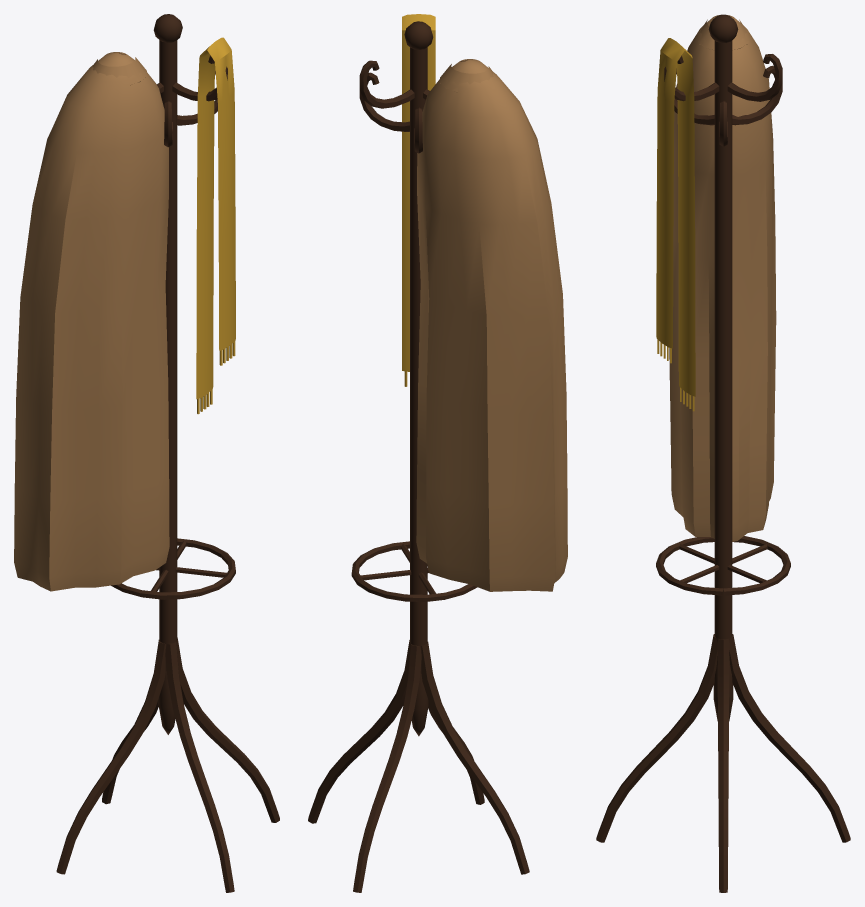
The model's file is coat_rack.glb.
3 views of the same model, side by side, from view 1: azimuth 30°, elevation 25°; view 2: azimuth 150°, elevation 25°; view 3: azimuth 270°, elevation 25° (orthographic).
Parts seen in each view (by area): view 1: coat, coat_rack, scarf; view 2: coat, coat_rack, scarf; view 3: coat, coat_rack, scarf.
Boxes of the visible parts, x1,y1,x2,y2 form: coat: (14, 52, 169, 591); coat_rack: (56, 14, 279, 892); scarf: (196, 37, 235, 414); coat: (416, 59, 567, 591); coat_rack: (308, 21, 529, 892); scarf: (402, 14, 435, 386); coat: (669, 15, 776, 541); coat_rack: (596, 14, 850, 892); scarf: (656, 38, 695, 411).
Size of the model in its own units: 0.5989 by 1.85 by 0.5164.
